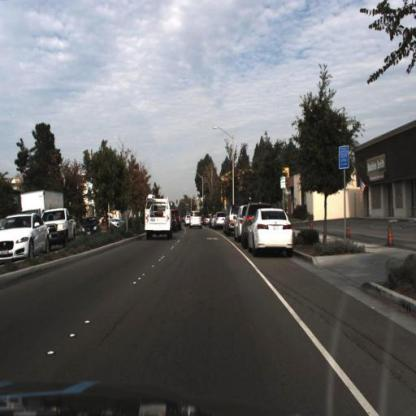car: (245, 205, 298, 264), (0, 214, 51, 265), (139, 189, 175, 239), (47, 203, 80, 250), (77, 211, 102, 239), (78, 213, 102, 240), (232, 199, 245, 246), (183, 206, 204, 232), (222, 202, 236, 239), (241, 202, 252, 249), (232, 201, 242, 245), (214, 207, 225, 234)
truck: (17, 175, 62, 216)
